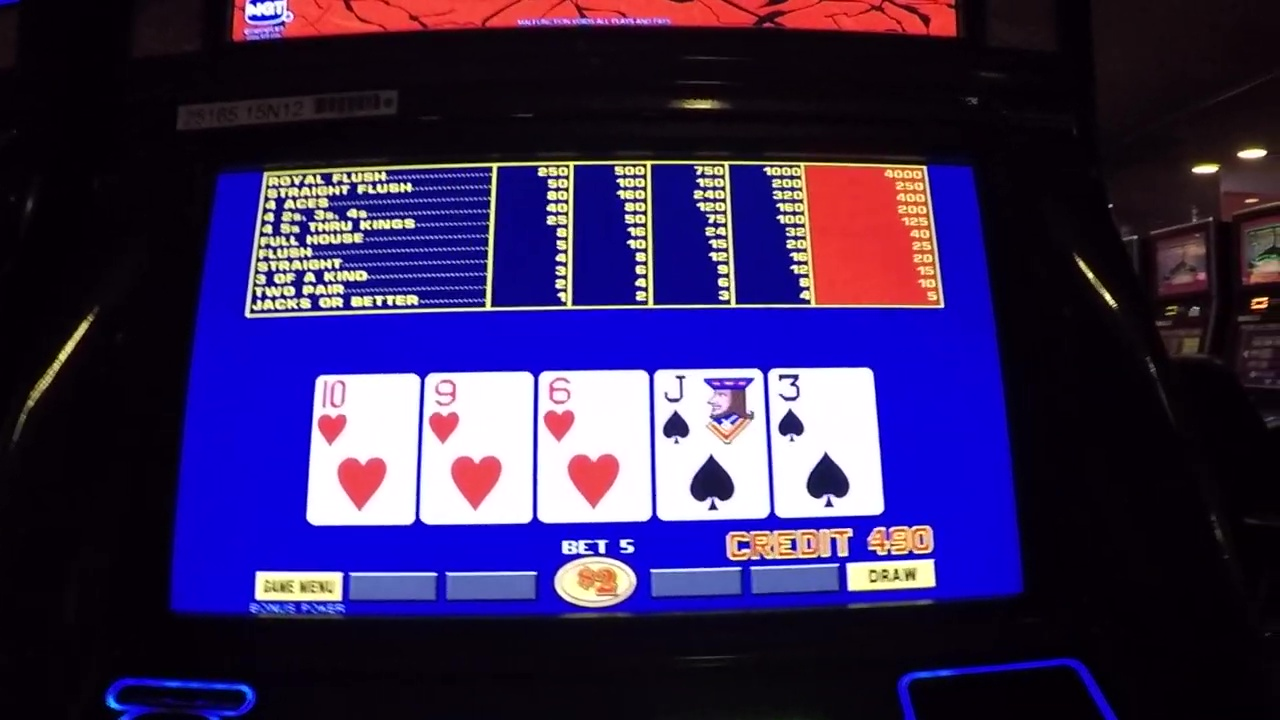H6: (542, 371, 649, 442)
H9: (424, 372, 531, 448)
HT: (317, 379, 412, 449)
S3: (774, 374, 872, 444)
SJ: (657, 371, 761, 447)
